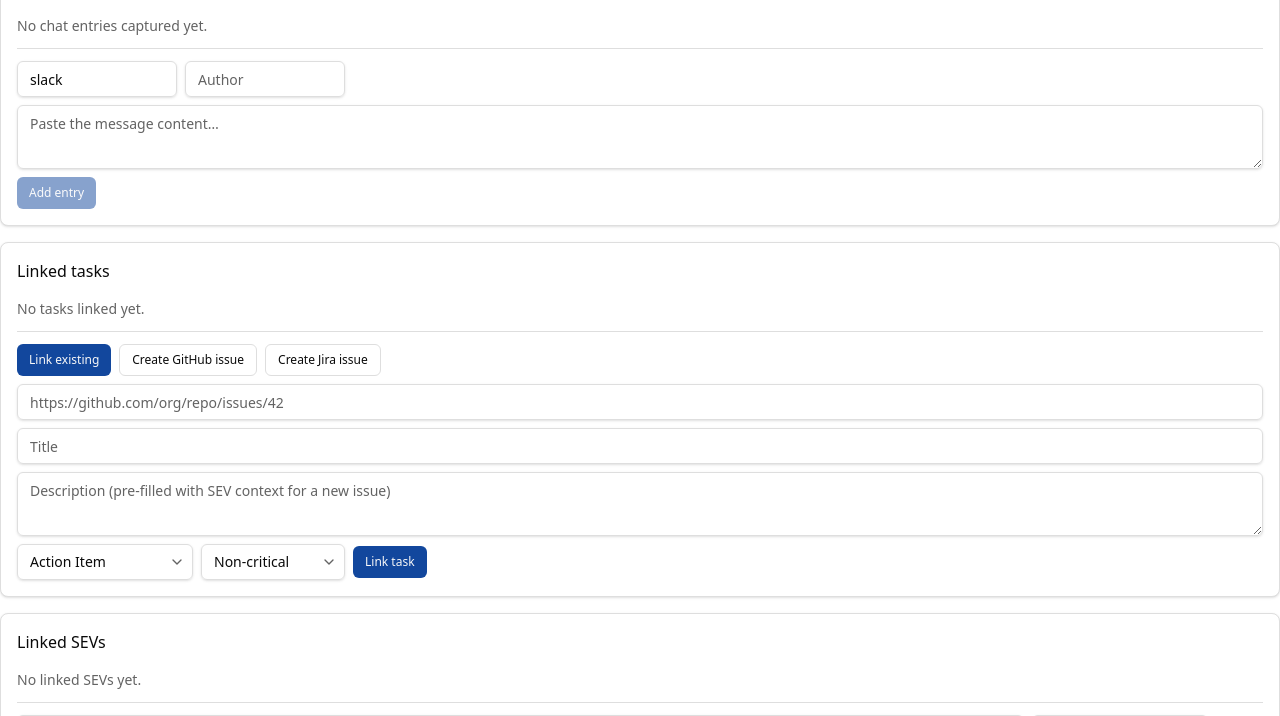
Test case: SevDetailPage › pre-fills the GitHub issue form owner/repo from the SEV repository
(page scrolled)
Click the button "Create GitHub issue": (188, 360) [119,344,257,376]
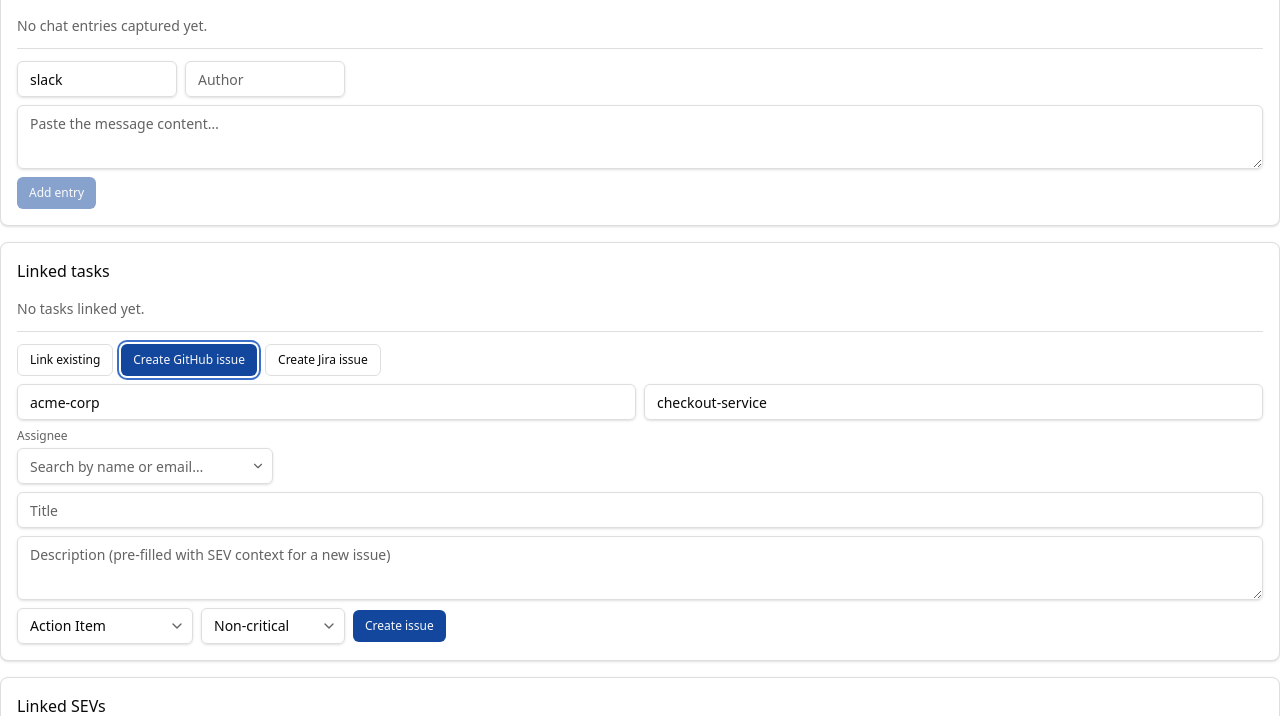
Check: the field named "owner" holds "acme-corp", box [17,384,636,420]
Check: the field named "repo" holds "checkout-service", box [644,384,1263,420]
